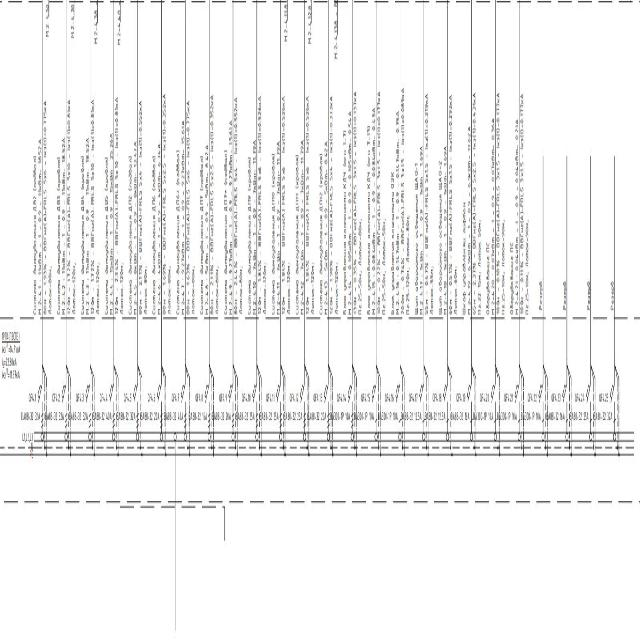-: (520, 409, 542, 422), (186, 410, 208, 423), (163, 410, 184, 423), (451, 410, 472, 423), (259, 412, 280, 425), (472, 410, 493, 423), (67, 410, 88, 423), (91, 410, 112, 423), (401, 410, 422, 423), (116, 410, 137, 423), (283, 412, 304, 425), (44, 411, 66, 423), (306, 410, 328, 422), (378, 410, 398, 423), (210, 410, 230, 423), (593, 411, 614, 423), (20, 411, 41, 423), (569, 411, 590, 423), (329, 411, 350, 423), (234, 410, 255, 422), (497, 411, 518, 423), (545, 411, 566, 423), (425, 410, 446, 422), (1, 329, 20, 342), (354, 411, 374, 423), (140, 411, 160, 423)
QF: (204, 380, 212, 428), (132, 382, 140, 430), (490, 380, 498, 428), (466, 381, 474, 429), (442, 380, 450, 428), (156, 382, 164, 429), (228, 381, 235, 429), (252, 381, 259, 429), (275, 382, 282, 430), (323, 381, 330, 429), (37, 382, 44, 430), (61, 380, 68, 428), (108, 381, 115, 429), (538, 380, 545, 428), (180, 380, 187, 428), (419, 379, 426, 426), (85, 380, 92, 427), (562, 380, 569, 427), (514, 380, 521, 427), (610, 380, 616, 428), (372, 380, 378, 428), (396, 379, 402, 426), (300, 382, 306, 429), (348, 382, 354, 429), (586, 379, 592, 426)
